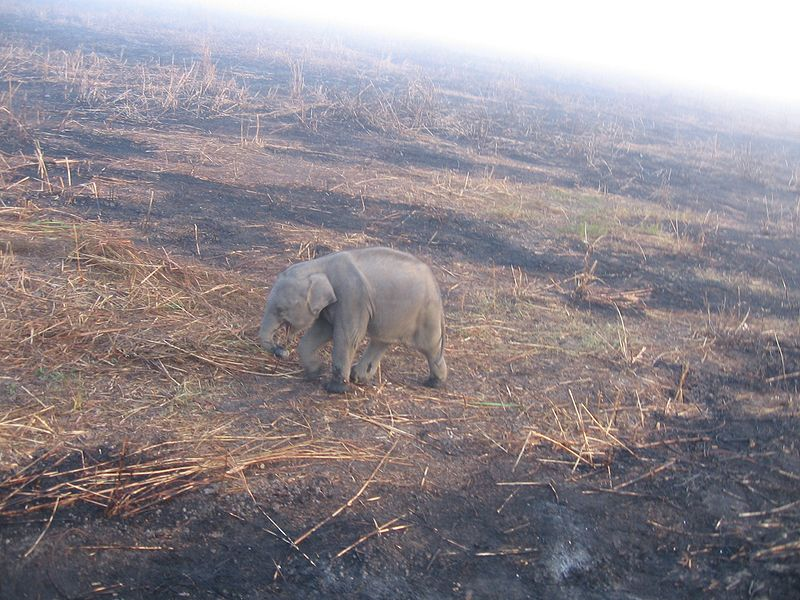elephant: (259, 234, 461, 393)
